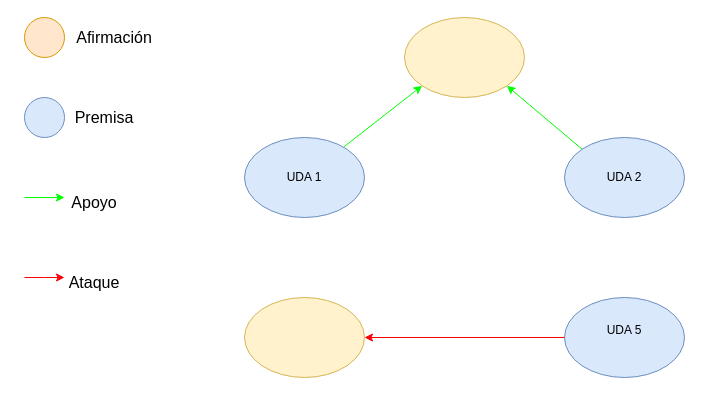
The diagram is 702 pixels wide and 395 high, and some of its shapes have lost their labels. Each missing label, with the box of its shape:
UDA 3: (404, 16, 524, 98)
UDA 4: (244, 296, 364, 378)
